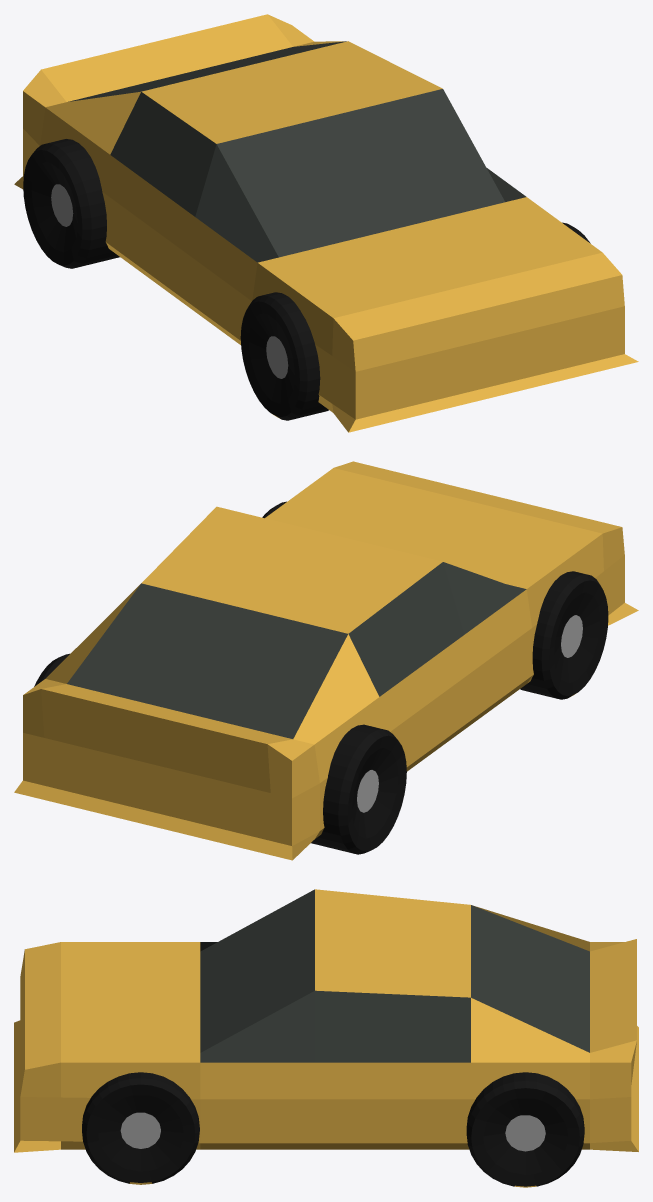
Rendered from car.fbx.
3 renders of one model, top to bottom at view 1: azimuth 30°, elevation 25°; view 2: azimuth 150°, elevation 25°; view 3: azimuth 270°, elevation 25°, orthographic. The views are drawn at different scales.
Parts seen in each view (by area): view 1: Car; view 2: Car; view 3: Car.
Boxes of the visible parts, x1,y1,x2,y2 form: Car: (14, 14, 638, 432); Car: (14, 461, 638, 860); Car: (14, 889, 638, 1187).
Size of the model in its own units: 241 by 138 by 438.
